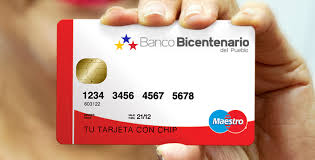tarjeta: (57, 19, 255, 145)
